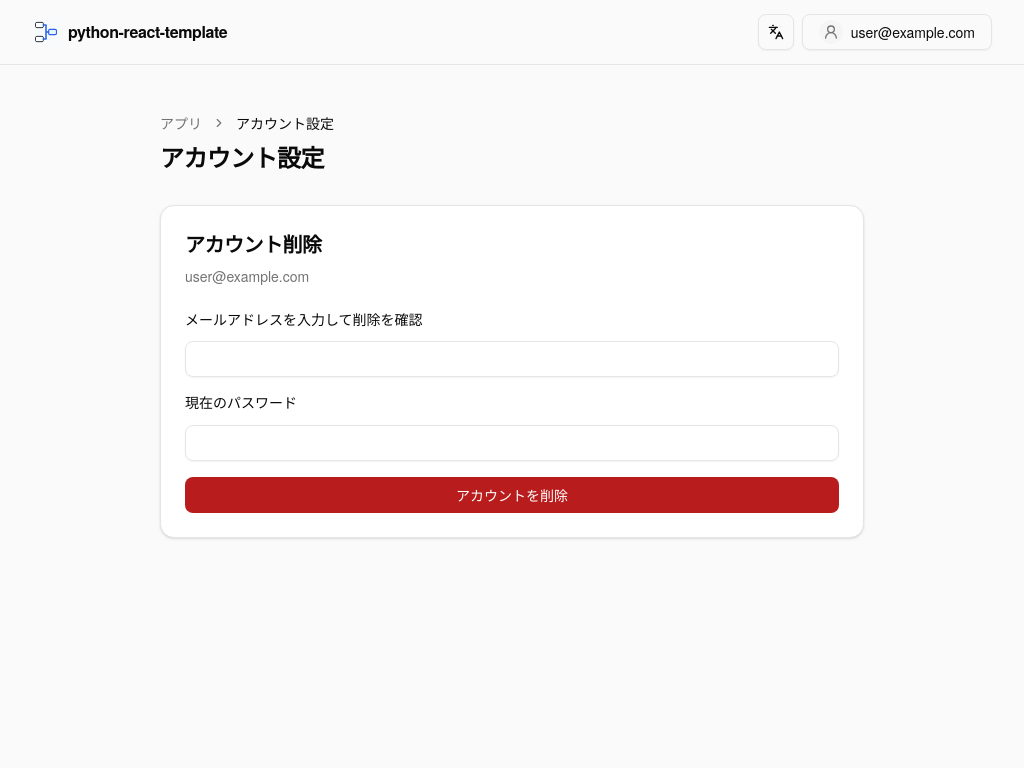
Test: /app/settings は account deletion API error 400 account_deletion_confirmation_mismatch を表示する
Check: the heading "アカウント削除" is shown, box 185,229 -> 322,258
Click the button "アカウントを削除".
click(512, 494)  # box 185,476 -> 839,512
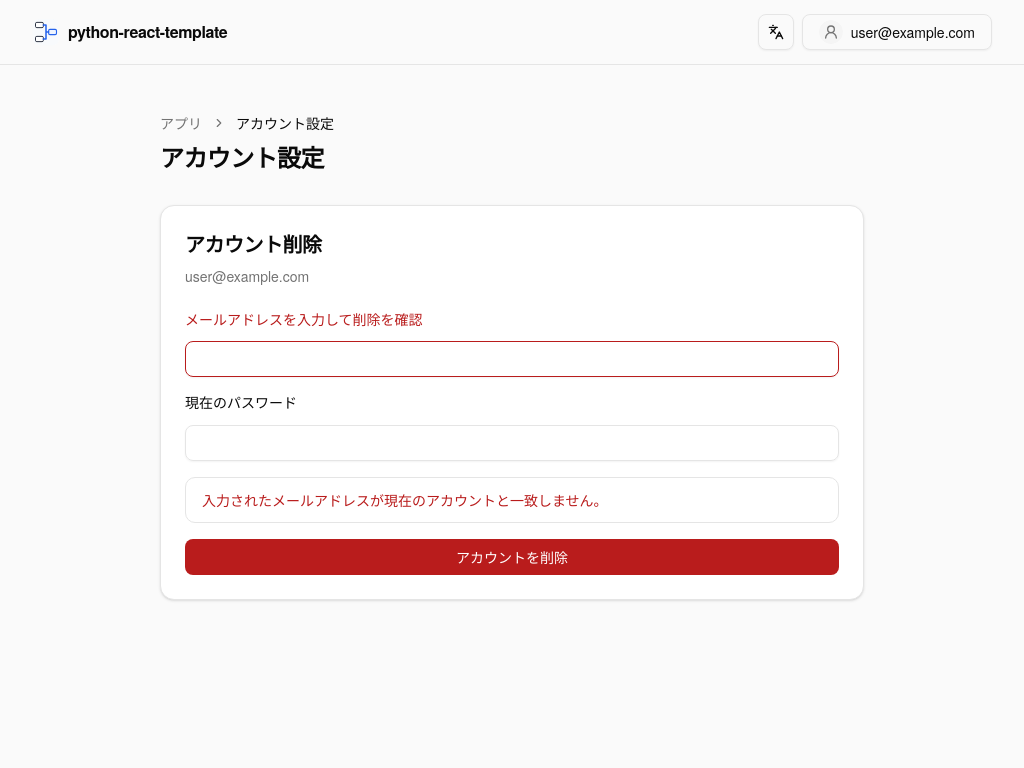
Check: the message reads "入力されたメールアドレスが現在のアカウントと一致しません。", box 202,490 -> 608,510
